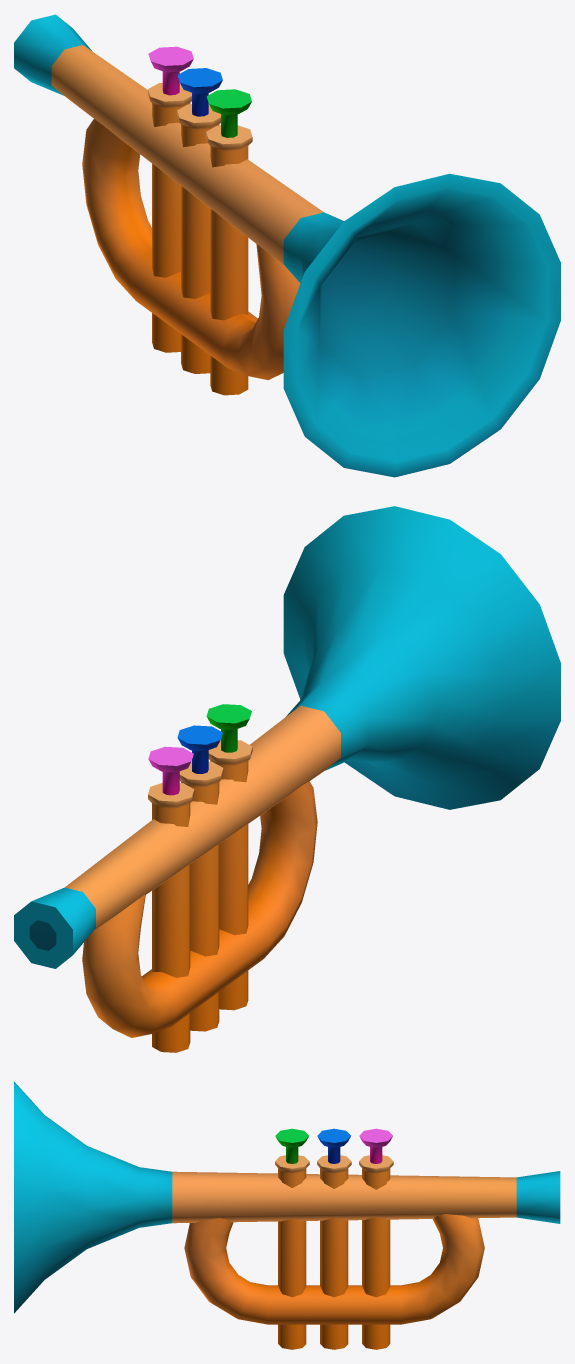
The model's file is trumpet.fbx.
3 renders of one model, top to bottom at view 1: azimuth 30°, elevation 25°; view 2: azimuth 150°, elevation 25°; view 3: azimuth 270°, elevation 25°, orthographic. The views are drawn at different scales.
Parts seen in each view (by area): view 1: trumpet; view 2: trumpet; view 3: trumpet.
Boxes of the visible parts, x1,y1,x2,y2 form: trumpet: (14, 14, 560, 477); trumpet: (14, 506, 560, 1052); trumpet: (14, 1081, 560, 1349).
Bounding box in the file's own units: 14.71 × 17.63 × 34.82.
